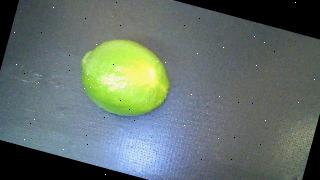EXPORTACION: (70, 31, 177, 126)
